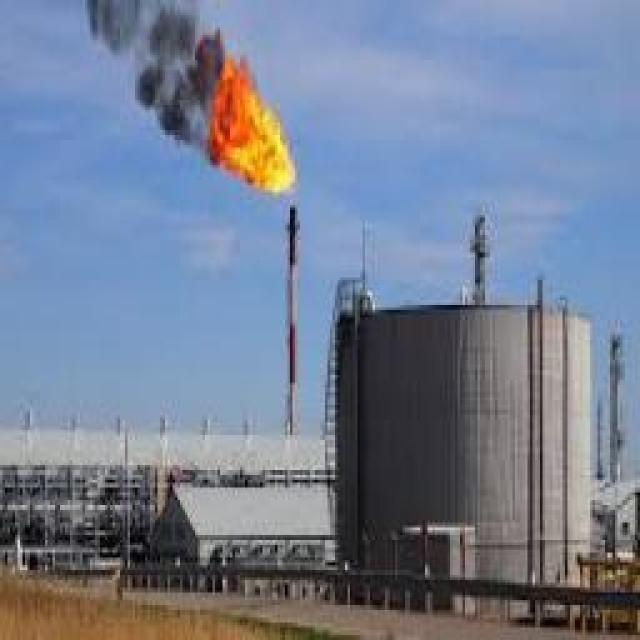fire: (209, 46, 294, 194)
smoke: (82, 0, 228, 162)
